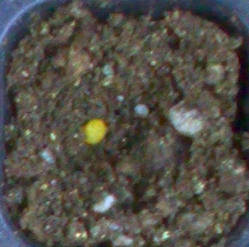pepper seed: (27, 45, 135, 192)
